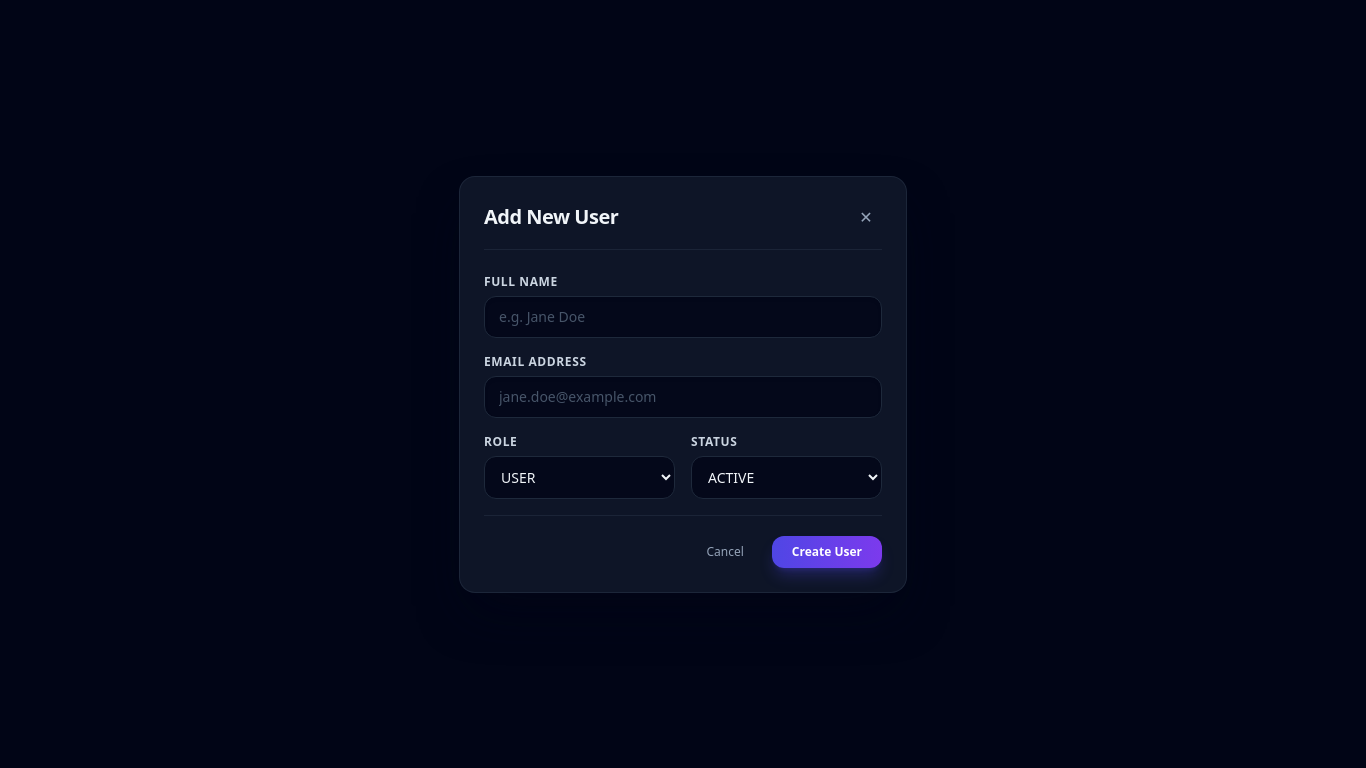
Test: UserFormModal › shows error message on short full name submission
The image size is (1366, 768).
Step 1. Type "A" into the field with placeholder "e.g. Jane Doe" → (683, 316), box [484, 296, 882, 338]
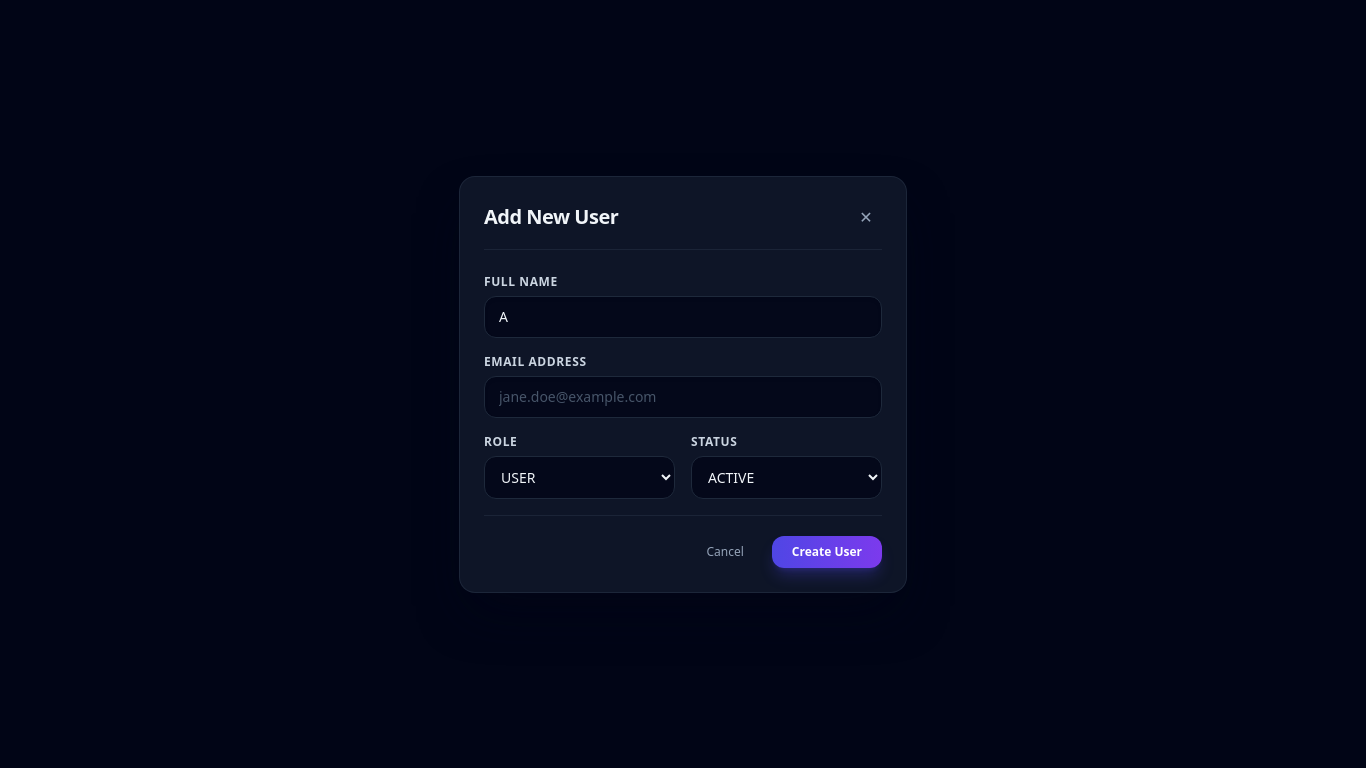
Step 2. Submit the form "Full Name Email Address Role Status Cancel Create User", box [484, 274, 882, 568]
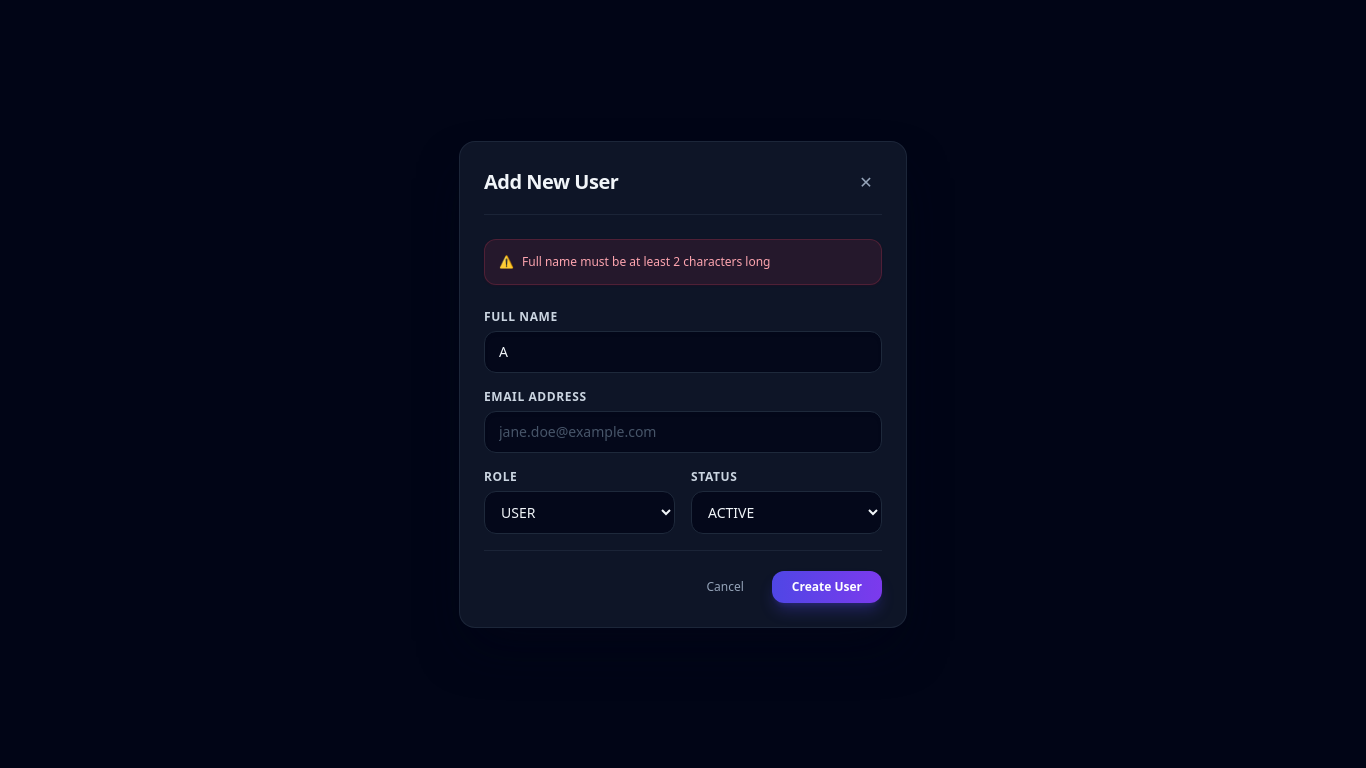
Expected: the text "Full name must be at least 2 characters long" is shown, [522, 254, 770, 270]
